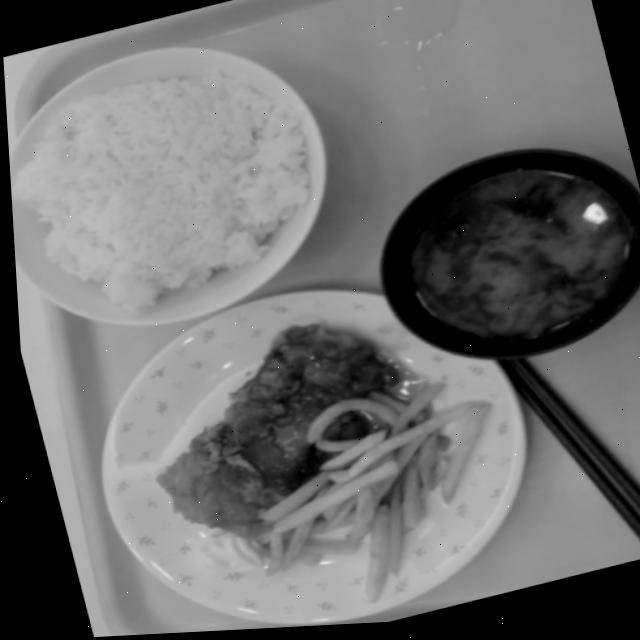米饭主食: (1, 0, 367, 361)
